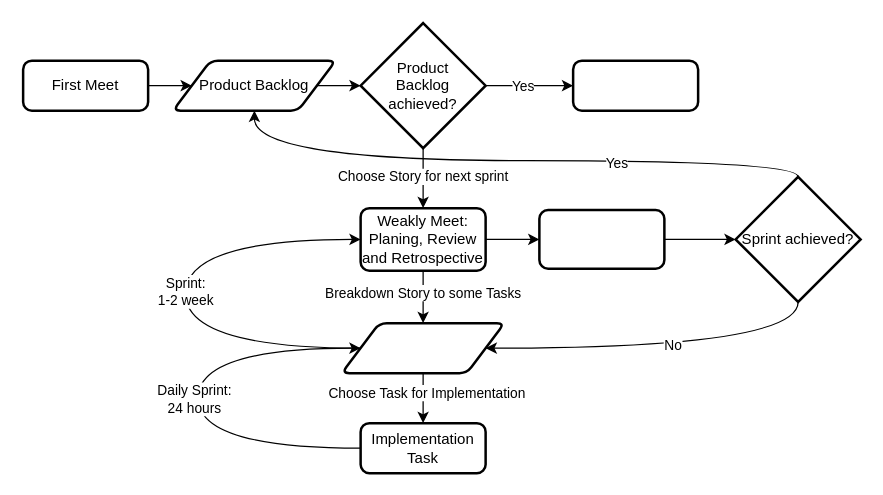
This 883x495 diagram has some shape labels left out. Here are the shapes that lost their labels. From the top down, the centre of each, then its label:
At (x=635, y=85): "Finish".
At (x=601, y=238): "Test Current Sprint Implementation".
At (x=422, y=347): "Sprint Backlog".
